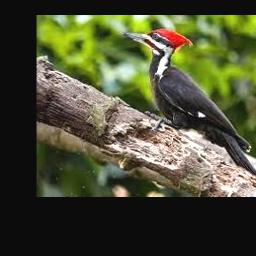Woodpecker: (122, 28, 256, 182)
